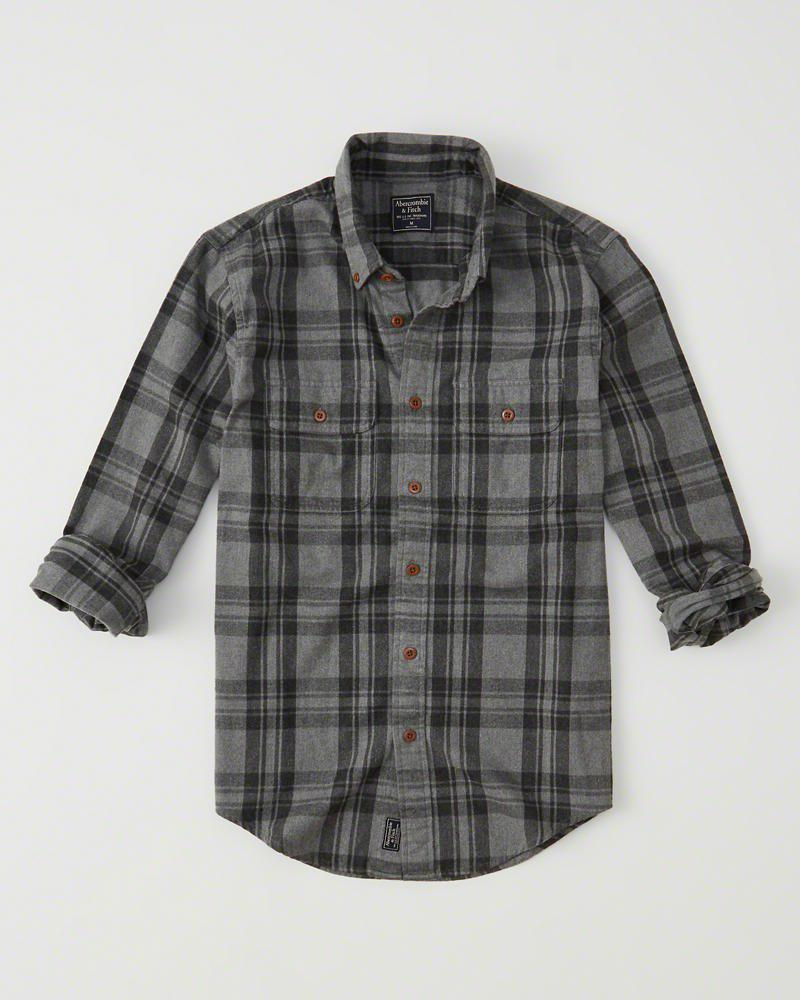teeshirt: (26, 131, 771, 912)
